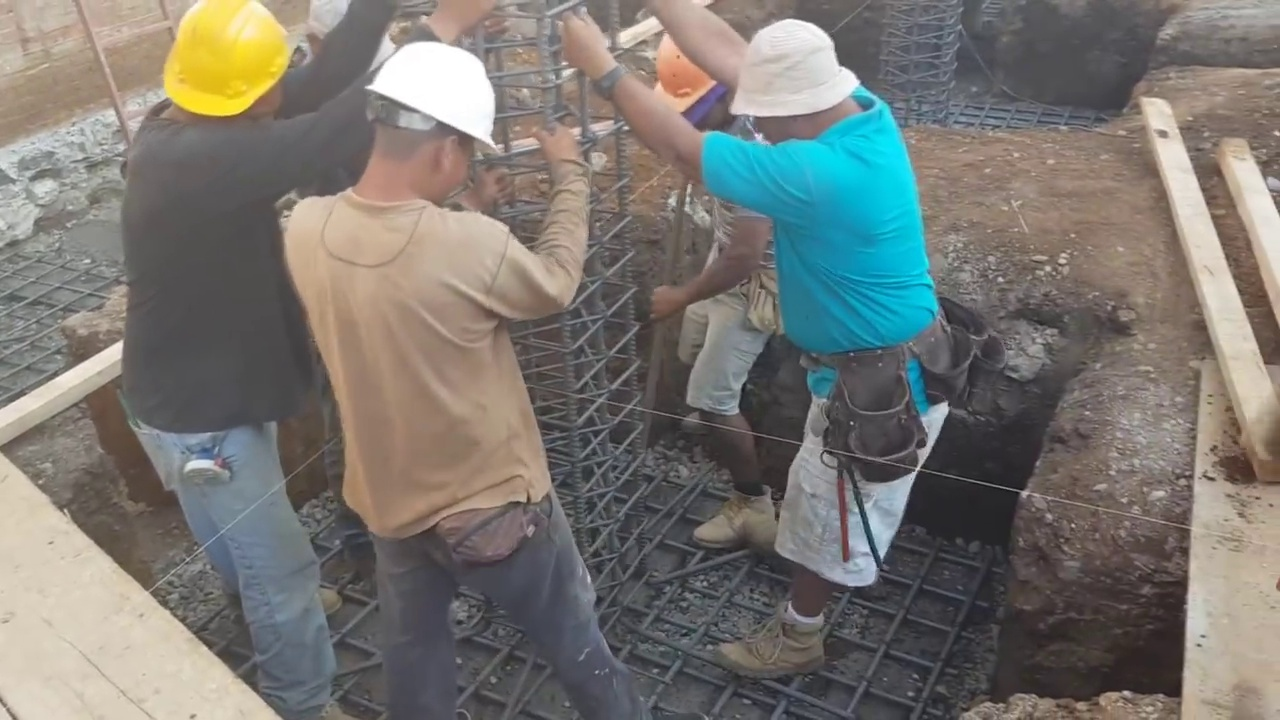helmet: (154, 1, 285, 121), (357, 42, 498, 150), (655, 31, 721, 116)
helmet-off: (731, 17, 874, 152)
helmet-on: (334, 44, 502, 219), (142, 2, 286, 138), (652, 27, 740, 151)
person: (269, 2, 665, 720), (561, 3, 956, 690), (119, 3, 495, 720), (638, 21, 786, 557)
